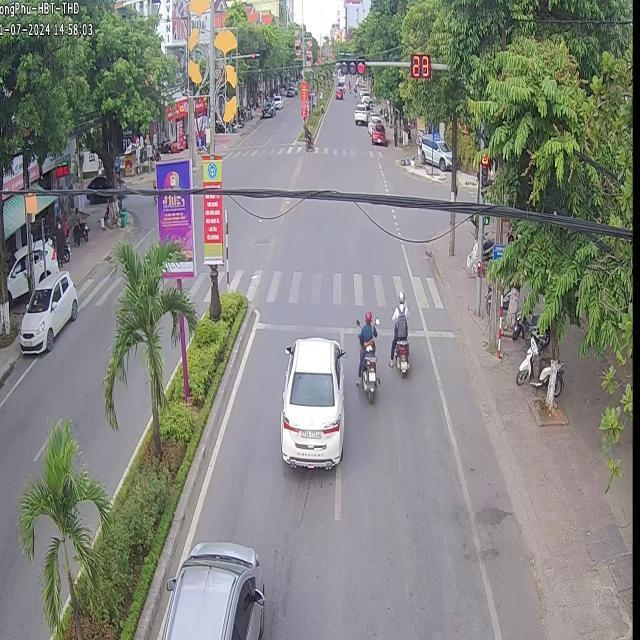car: (162, 540, 263, 638), (279, 336, 344, 467), (22, 269, 76, 351)
motobike: (354, 309, 377, 400), (393, 336, 408, 376)
red_light: (410, 54, 431, 77), (340, 59, 364, 74), (481, 148, 489, 190)
stop_line: (252, 320, 357, 335), (426, 329, 452, 337), (407, 327, 424, 336)
